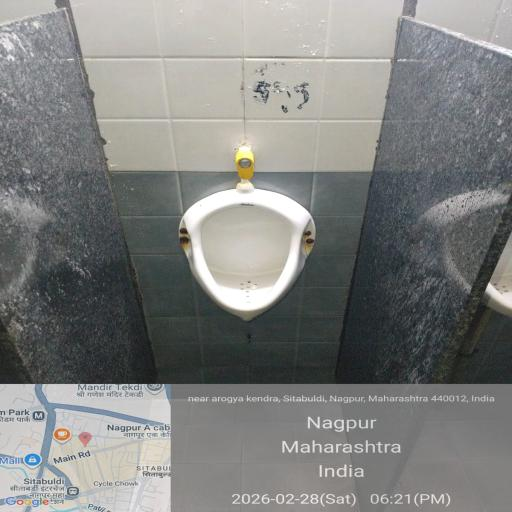clean_floor: (46, 54, 446, 385)
clean_urinal: (132, 178, 342, 324)
